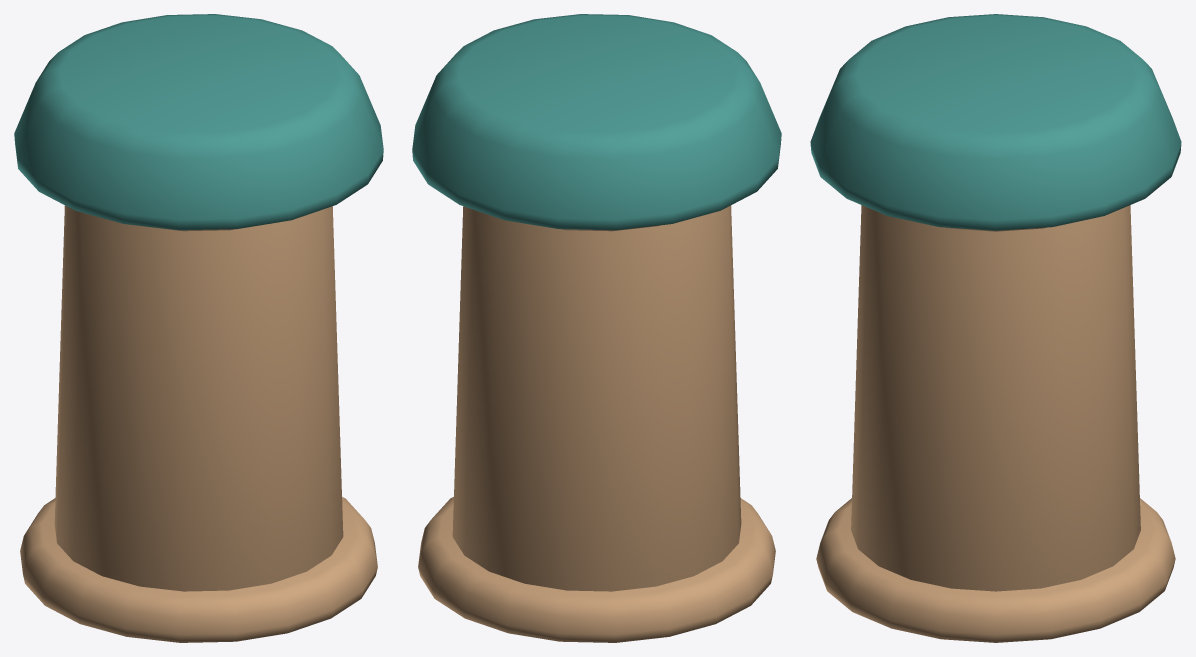
The model's file is post.glb.
3 renders of one model, left to right at view 1: azimuth 30°, elevation 25°; view 2: azimuth 150°, elevation 25°; view 3: azimuth 270°, elevation 25°, orthographic.
Visible parts, largest first — view 1: Post_Body, Post_Cap; view 2: Post_Body, Post_Cap; view 3: Post_Body, Post_Cap.
Part boxes in pixels (x1,y1,x2,y2): Post_Body: (20, 205, 377, 642); Post_Cap: (14, 14, 383, 230); Post_Body: (418, 205, 775, 642); Post_Cap: (412, 14, 781, 230); Post_Body: (816, 205, 1175, 642); Post_Cap: (810, 14, 1181, 230).
Size of the model in its own units: 0.4058 by 0.6 by 0.4058.
